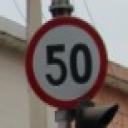speed_limit_50: (27, 17, 108, 107)
